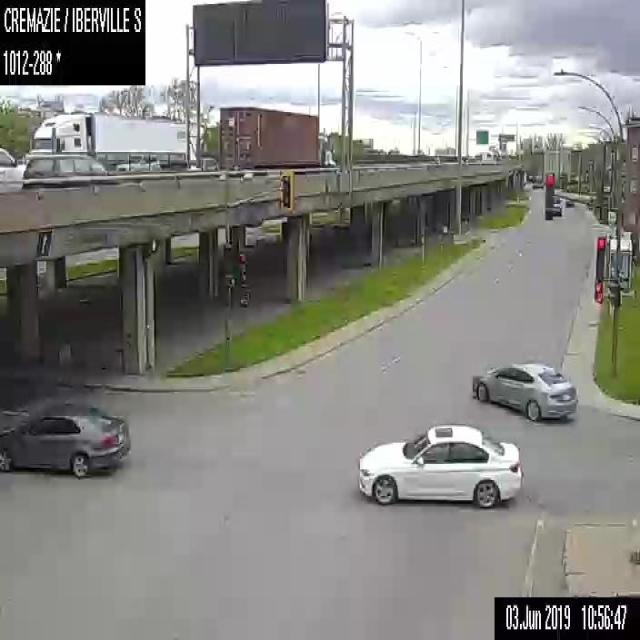vehicle: (354, 421, 524, 508), (0, 402, 131, 478), (27, 112, 188, 163), (219, 104, 335, 171), (470, 359, 577, 420), (22, 152, 120, 189), (0, 145, 26, 191), (116, 153, 160, 170), (189, 154, 218, 173), (481, 150, 501, 162), (552, 202, 561, 216), (532, 180, 543, 188), (566, 198, 574, 206)
